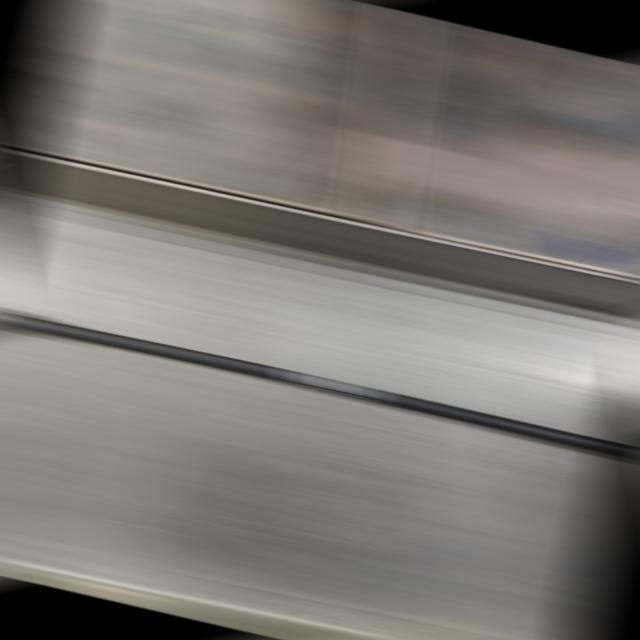white: (296, 370, 369, 400)
